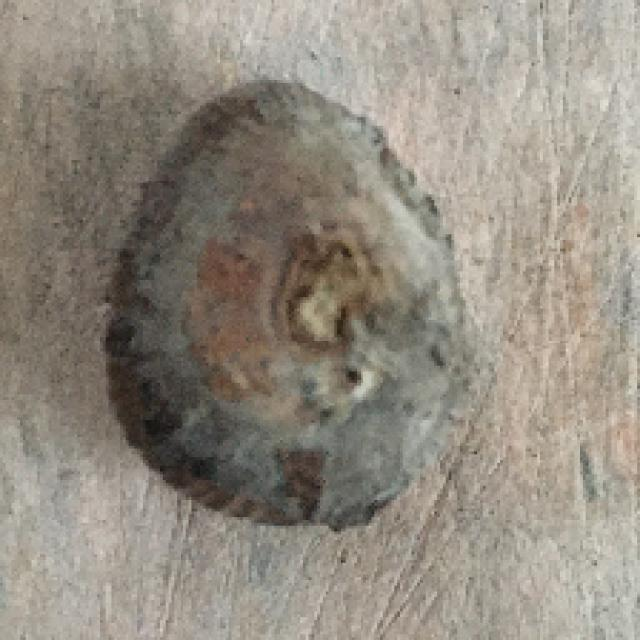damagedHazelnut: (105, 64, 472, 536)
